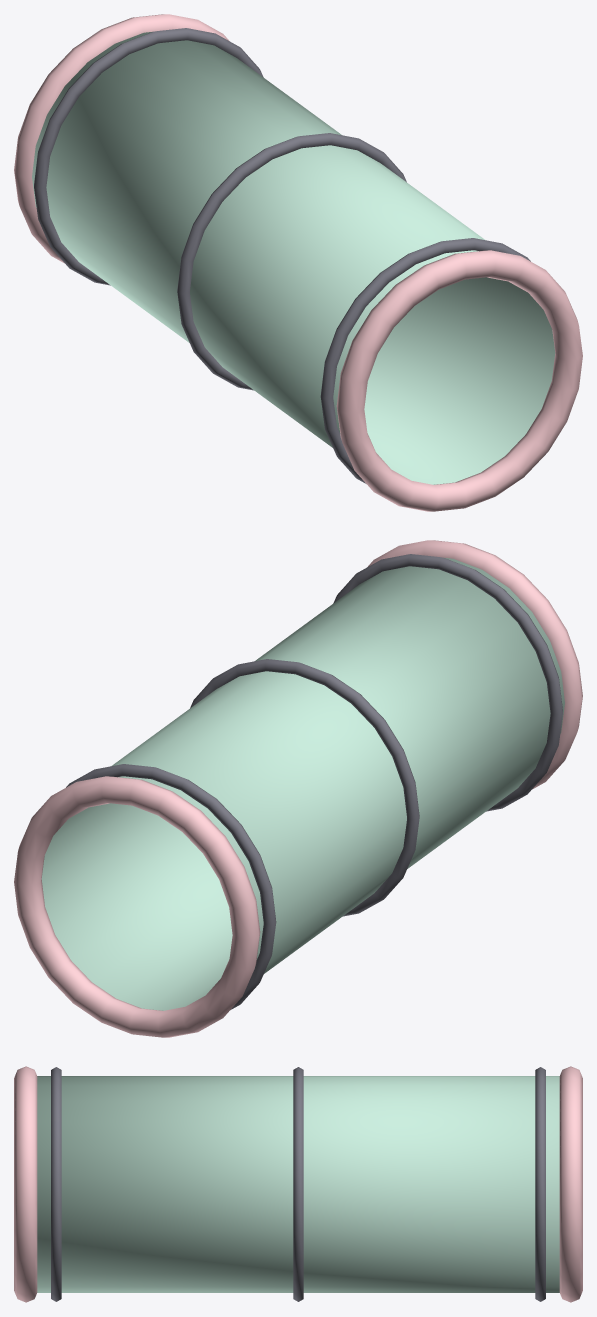
File: companion-animals-and-pet-home-play-tunnel-5ab091d7__20645.glb
3 renders of one model, top to bottom at view 1: azimuth 30°, elevation 25°; view 2: azimuth 150°, elevation 25°; view 3: azimuth 270°, elevation 25°, orthographic. The views are drawn at different scales.
Visible parts, largest first — view 1: play-tunnel; view 2: play-tunnel; view 3: play-tunnel.
Part boxes in pixels (x1=…): play-tunnel: x1=14, y1=14, x2=582, y2=511; play-tunnel: x1=14, y1=540, x2=582, y2=1037; play-tunnel: x1=14, y1=1066, x2=582, y2=1302.
Size of the model in its own units: 0.392 by 0.392 by 0.94.
